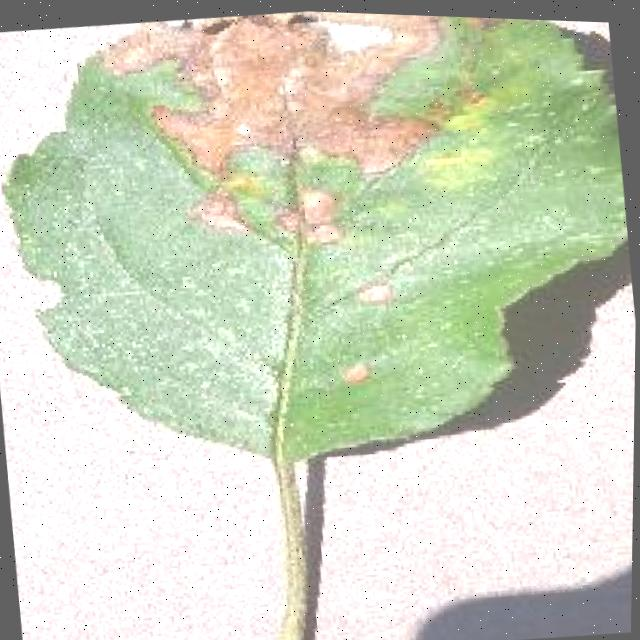black_rot: (62, 2, 495, 215), (264, 167, 368, 267), (183, 170, 268, 257), (327, 260, 411, 328), (310, 340, 384, 407)
